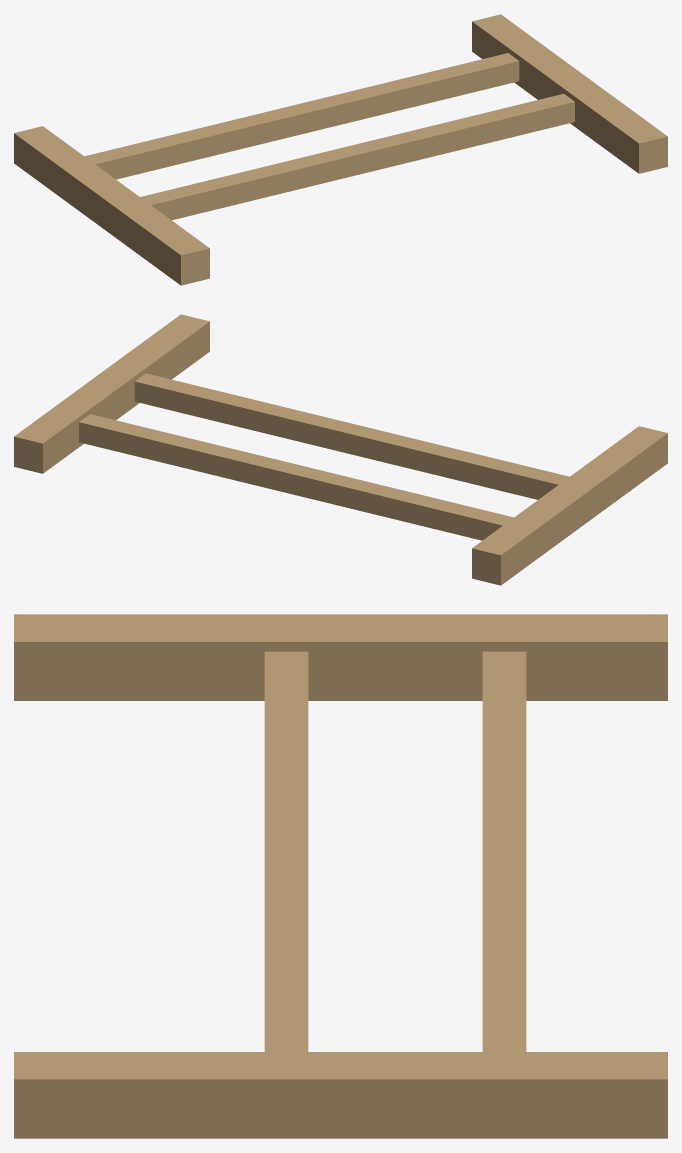
File: fence.fbx
The picture shows the model from 3 angles, top to bottom: view 1: azimuth 30°, elevation 25°; view 2: azimuth 150°, elevation 25°; view 3: azimuth 270°, elevation 25°; orthographic projection. The views are drawn at different scales.
Parts seen in each view (by area): view 1: Rail2, Rail1, PostL, PostR; view 2: Rail1, Rail2, PostL, PostR; view 3: PostR, PostL, Rail1, Rail2.
Boxes of the visible parts, x1,y1,x2,y2 form: Rail2: (84, 53, 519, 179); Rail1: (140, 93, 574, 220); PostL: (14, 126, 209, 285); PostR: (472, 14, 667, 173); Rail1: (134, 373, 569, 499); Rail2: (79, 414, 513, 540); PostL: (472, 426, 667, 585); PostR: (14, 314, 209, 473); PostR: (14, 1052, 667, 1138); PostL: (14, 614, 667, 700); Rail1: (264, 651, 308, 1051); Rail2: (482, 651, 526, 1051).
Bounding box in the file's own units: 202 × 12 × 120.
